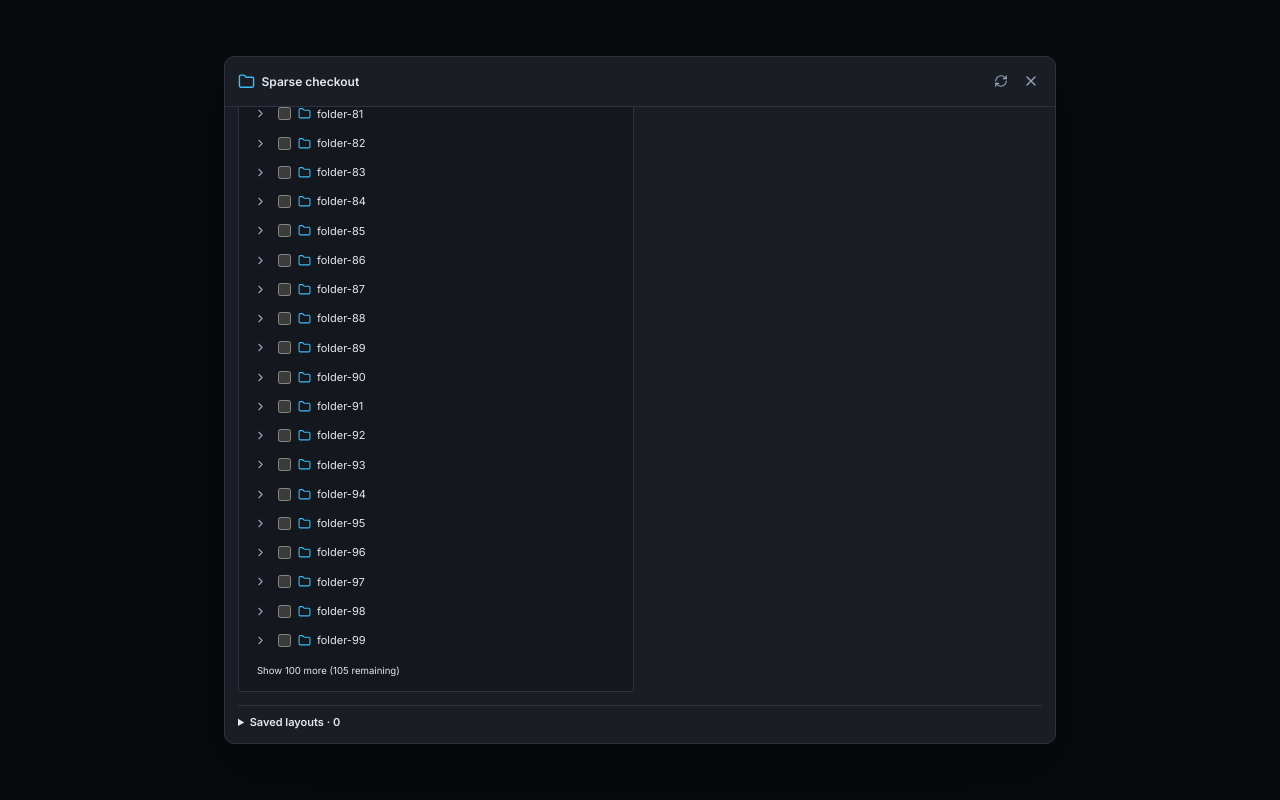
Scenario: reveals sparse folder choices in bounded batches
(page scrolled)
What coordinates should you click on to do the following:
click the button "Show 100 more (105 remaining)"
I would click on:
 (328, 671)
Its box is [249,662,408,681].
(page scrolled)
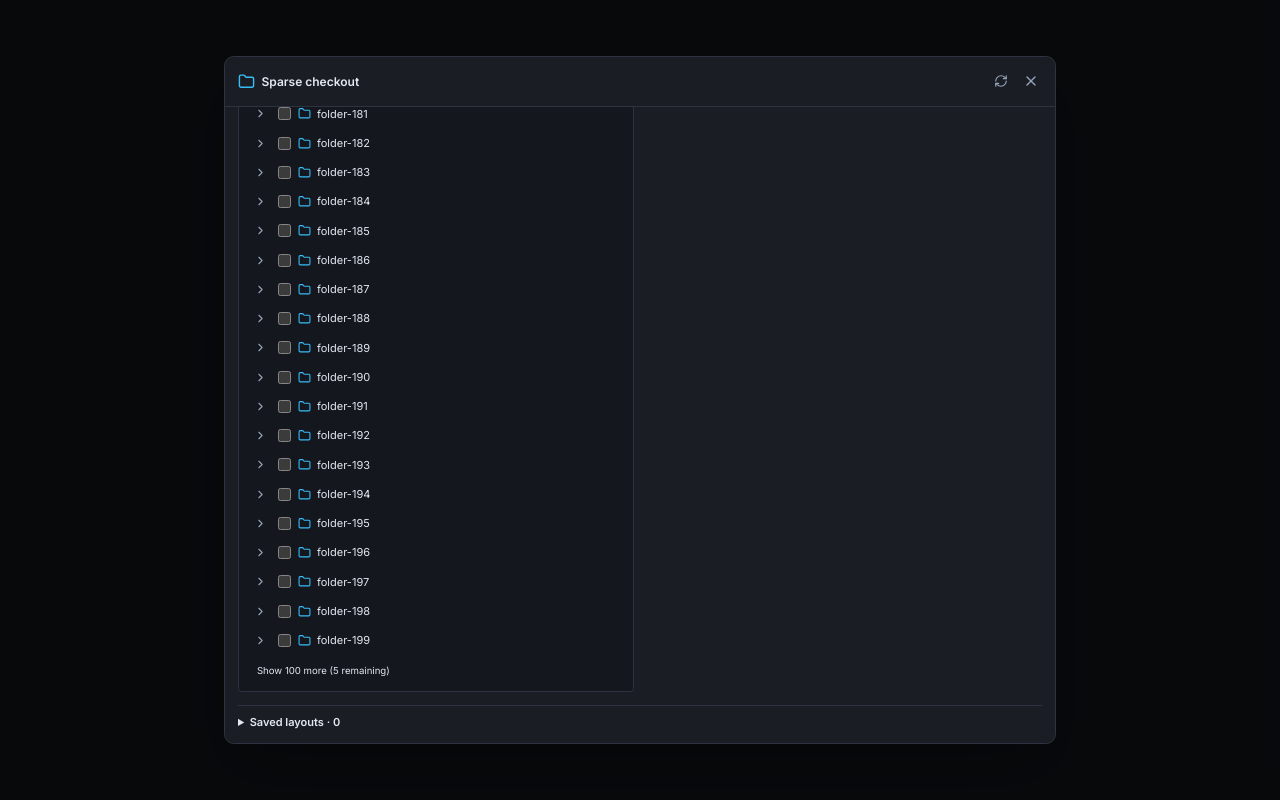
What coordinates should you click on to do the following:
click the button "Show 100 more (5 remaining)"
I would click on:
 (323, 671)
Its box is [249,662,398,681].
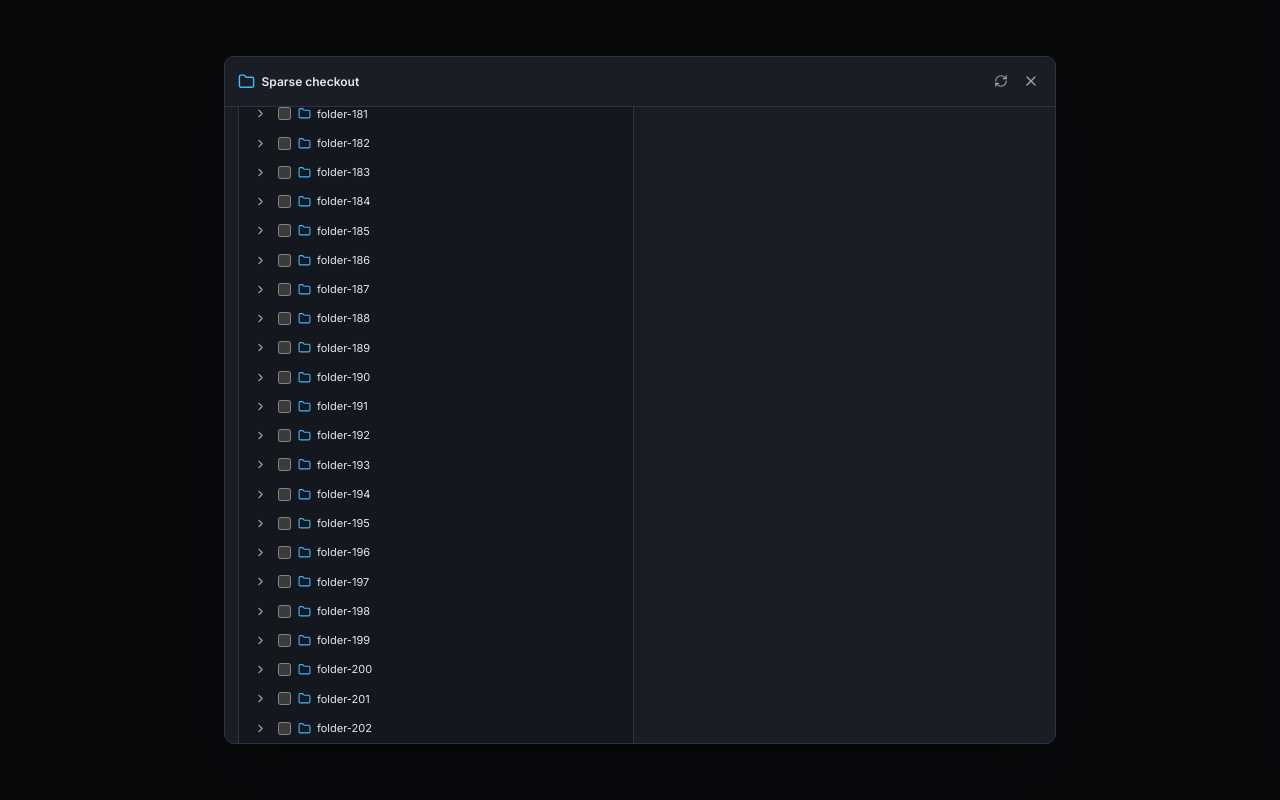
Check: the button "Show 100 more" is gone
